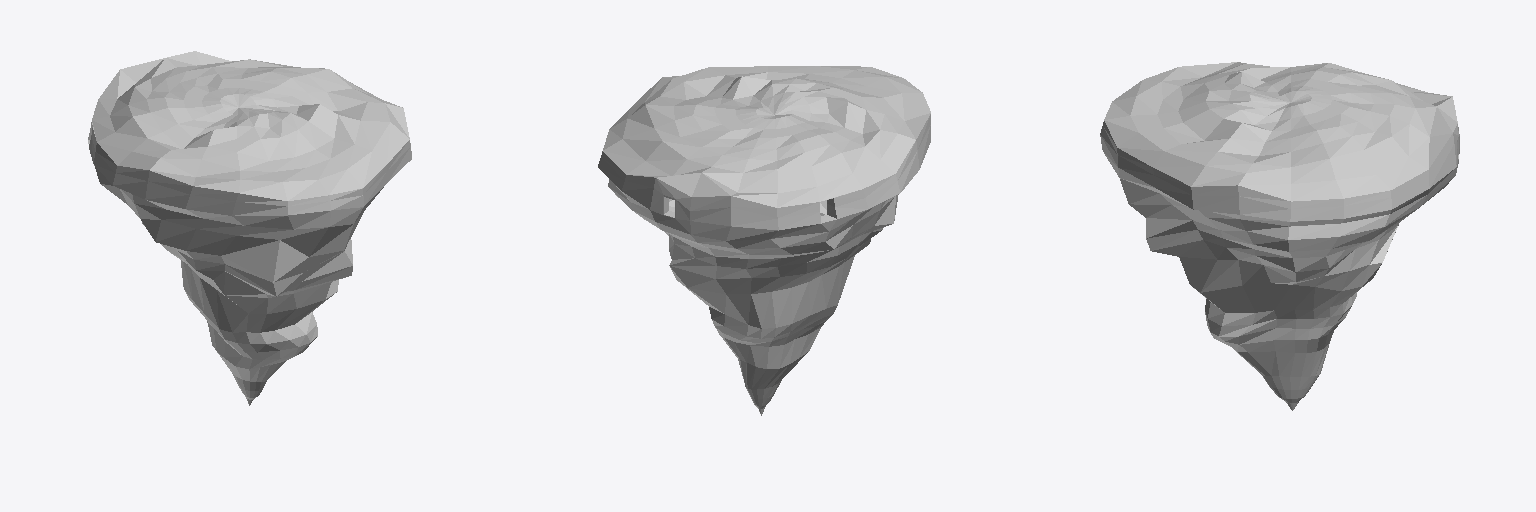
File: FloatingislandL1_ scaledtoresizeddoor.obj
The picture shows the model from 3 angles: view 1: azimuth 30°, elevation 25°; view 2: azimuth 150°, elevation 25°; view 3: azimuth 270°, elevation 25°; orthographic projection.
Visible parts, largest first — view 1: IslandLowP1; view 2: IslandLowP1; view 3: IslandLowP1.
Boxes of the visible parts, <box> form: IslandLowP1: <box>88,51,411,405</box>; IslandLowP1: <box>598,66,930,415</box>; IslandLowP1: <box>1100,62,1459,410</box>.
Bounding box in the file's own units: 139 × 150 × 157.